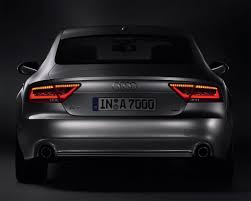car: (11, 18, 237, 189)
